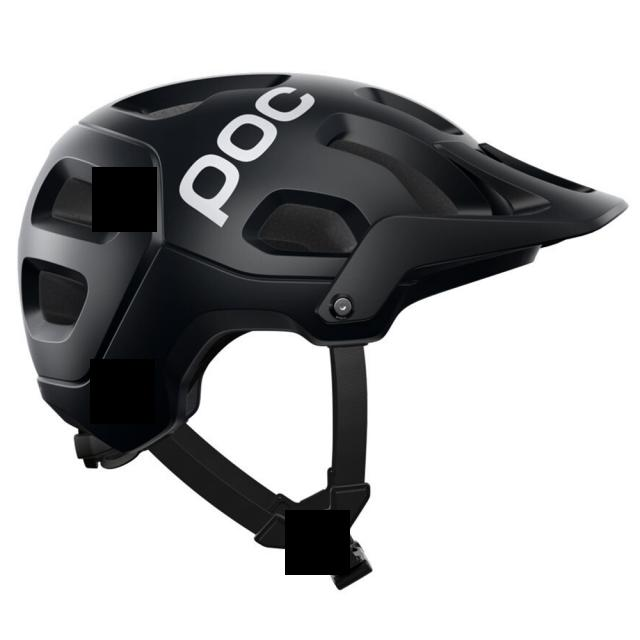Helmet: (19, 74, 626, 589)
